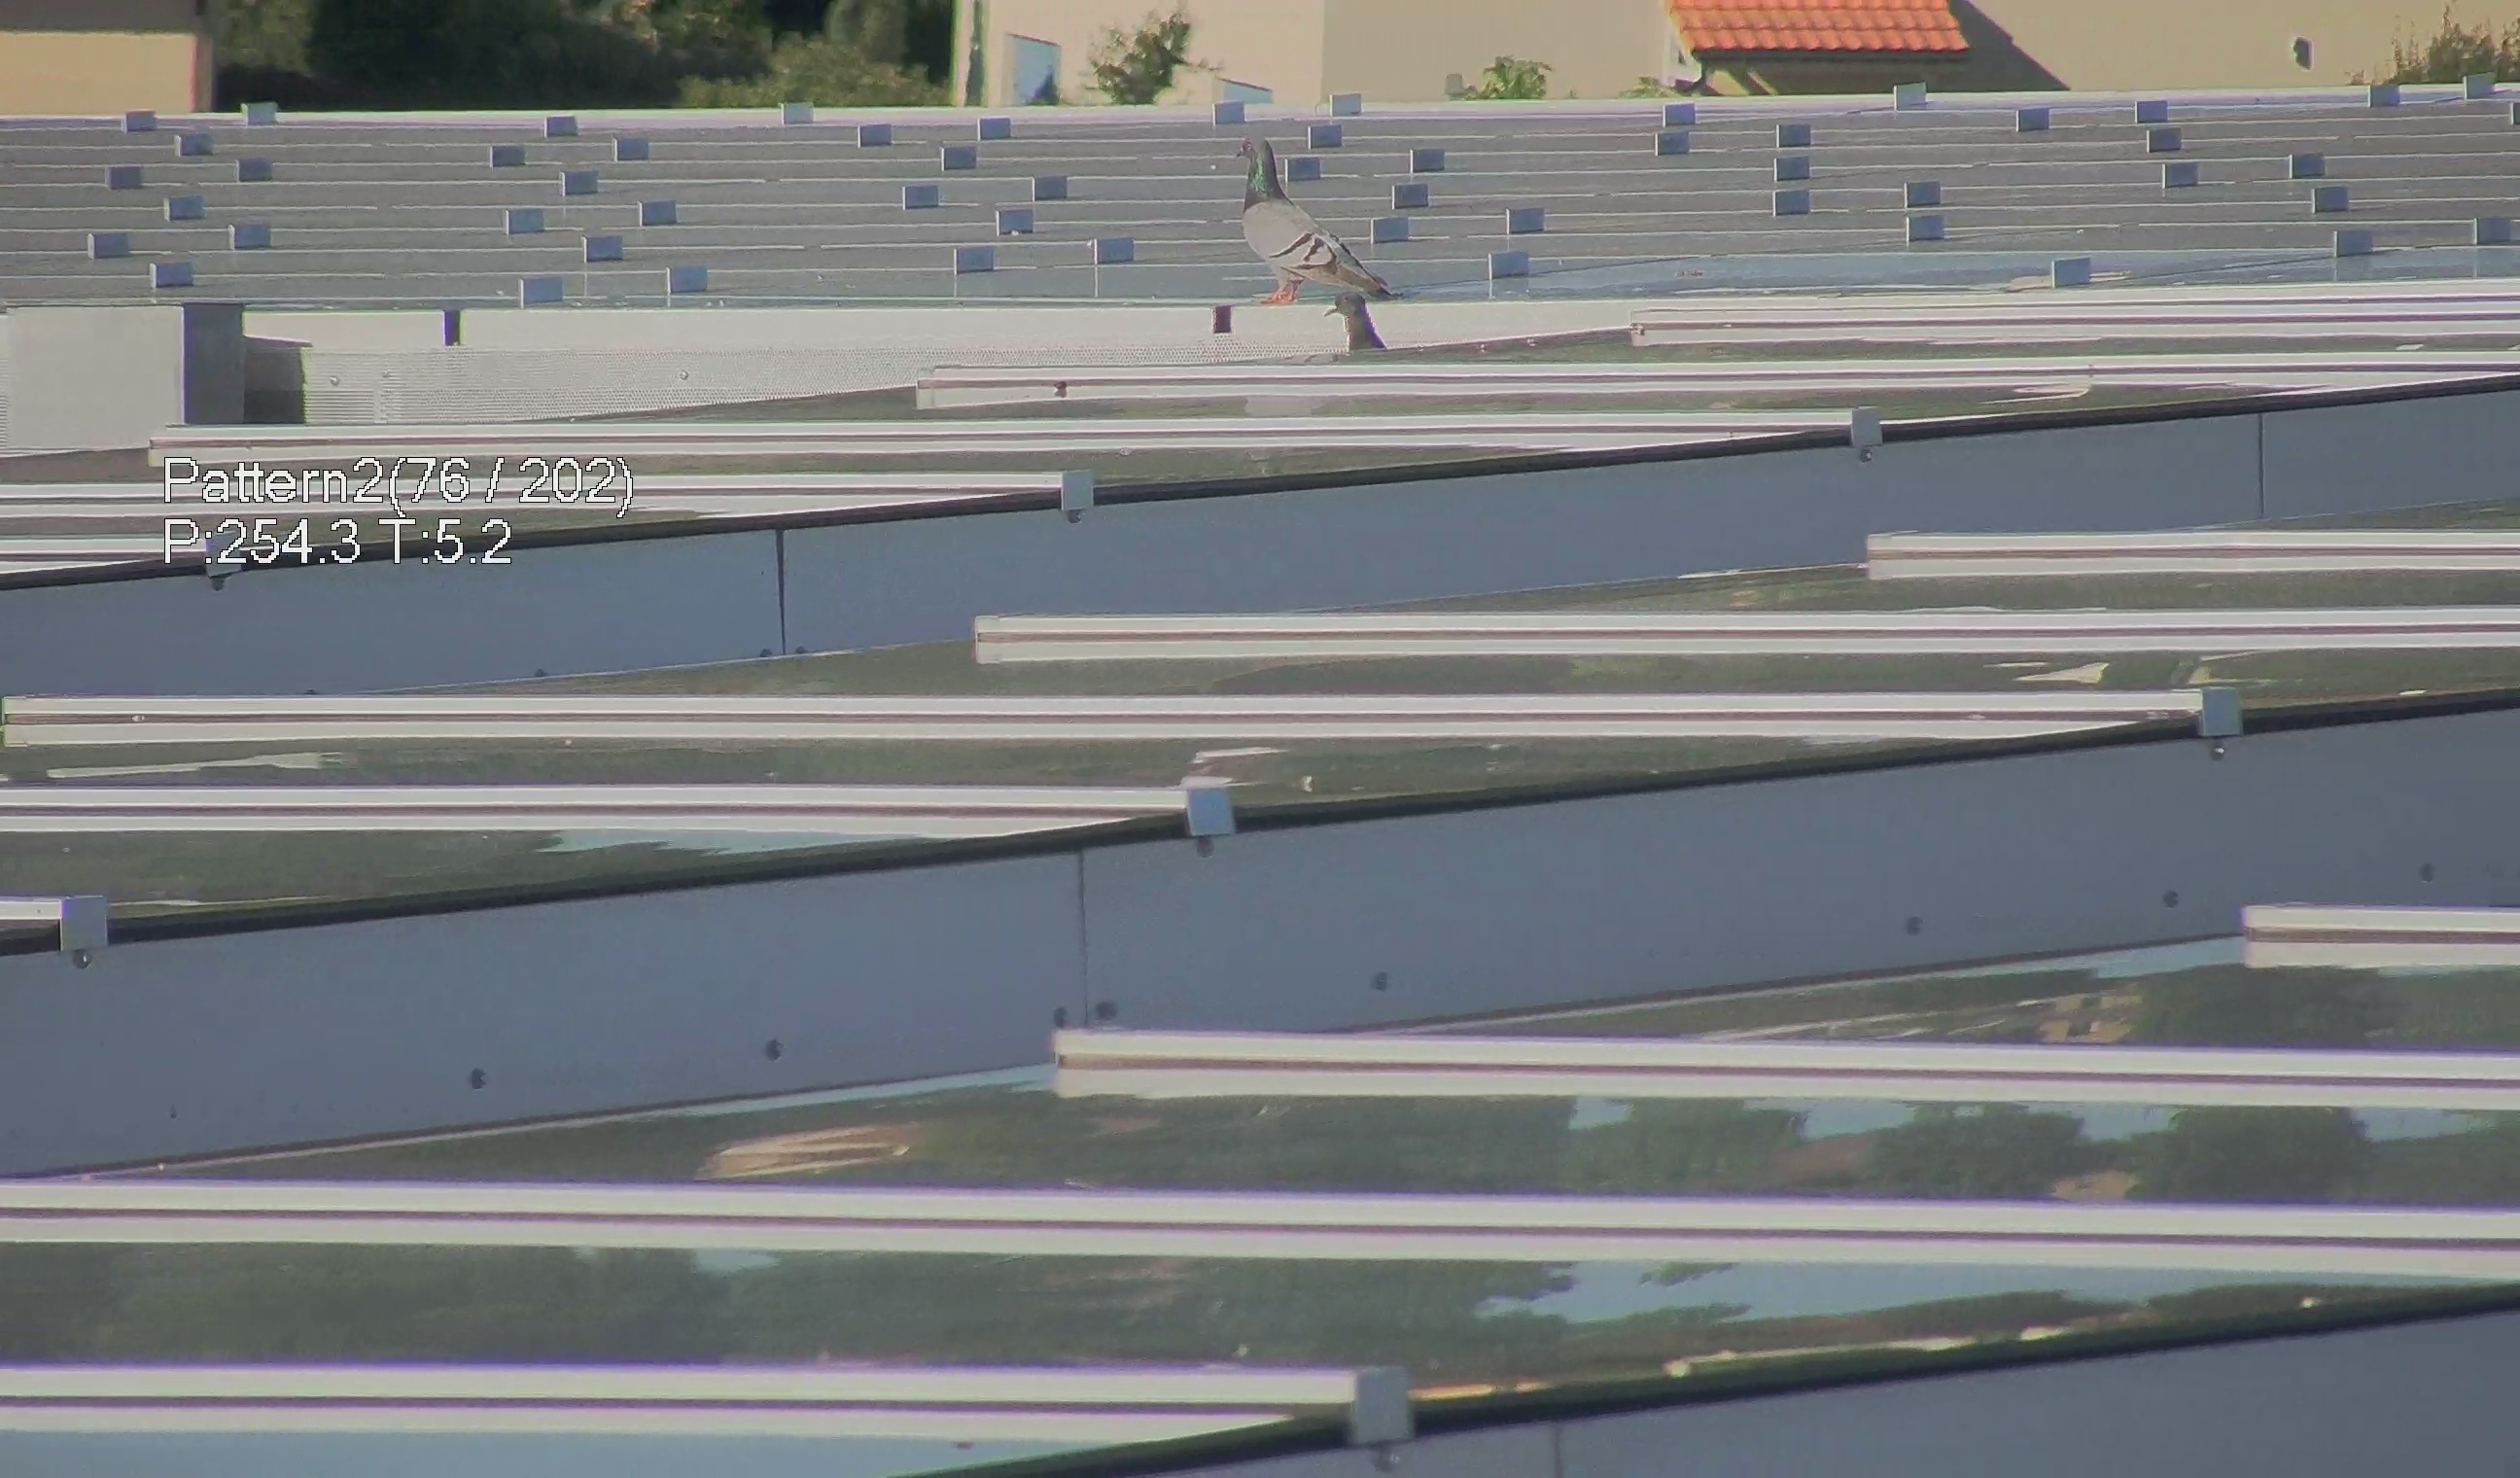Pigeon: (1220, 127, 1393, 315), (1308, 280, 1405, 359)
